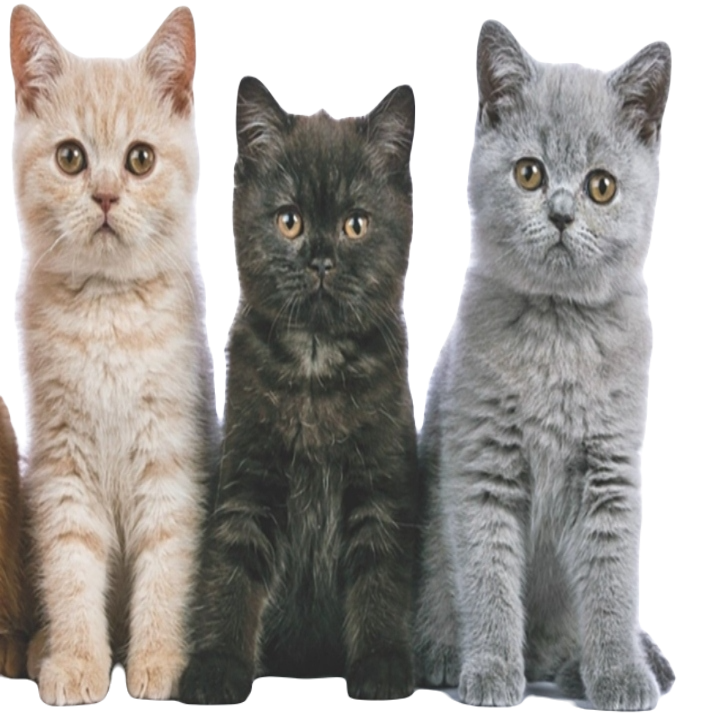Cat: (430, 11, 679, 715), (0, 6, 199, 705), (212, 73, 419, 712)
